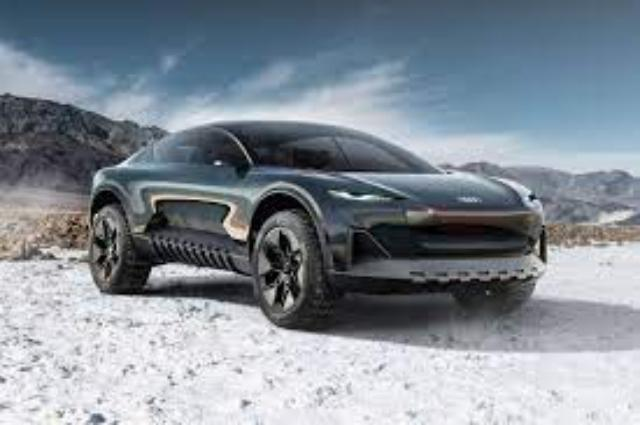audi: (88, 122, 548, 332)
